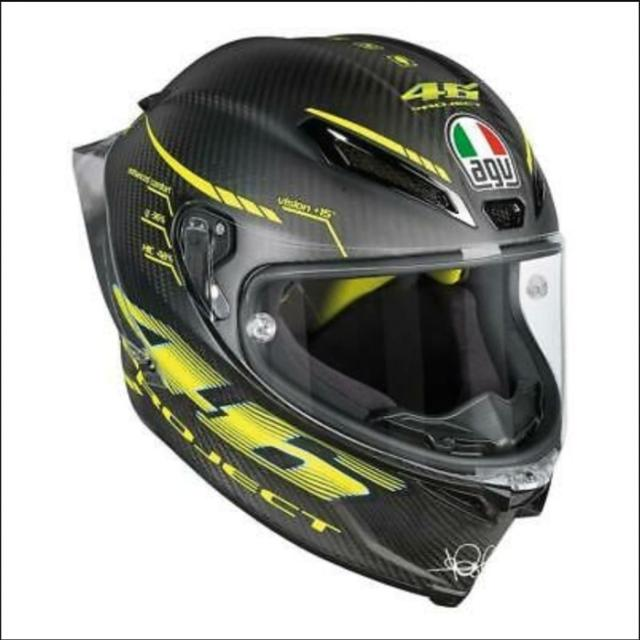Helm: (54, 25, 580, 608)
